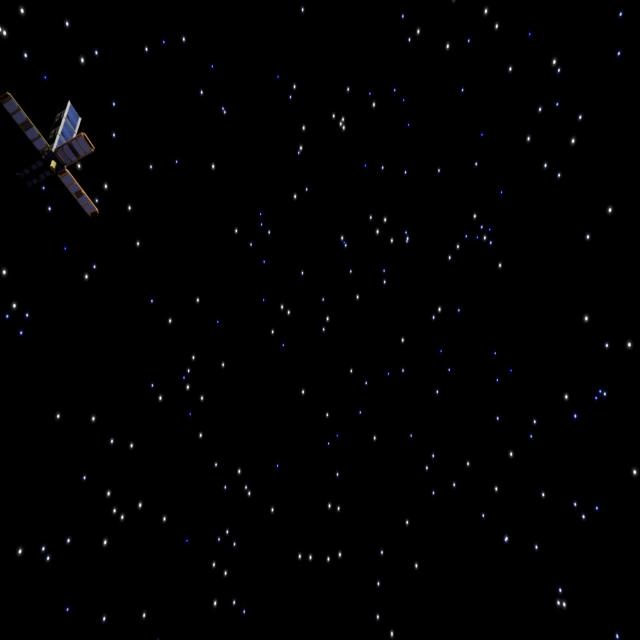medium_debris: (3, 89, 109, 219)
